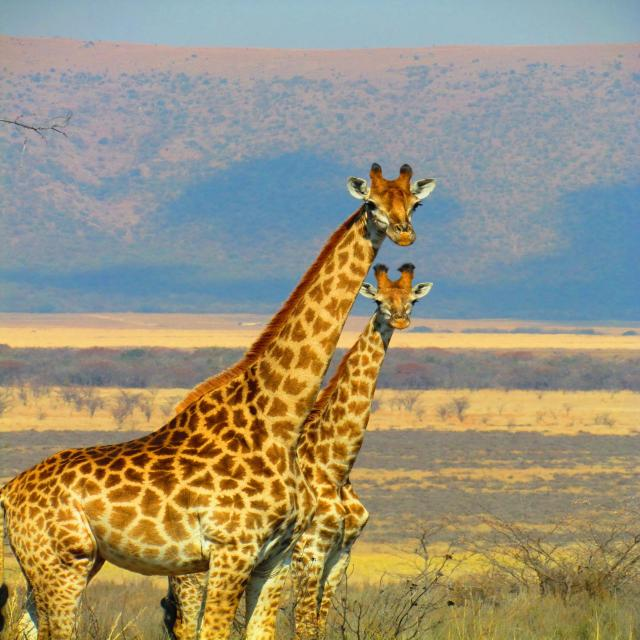Giraffe: (0, 161, 439, 640), (165, 263, 435, 640)
